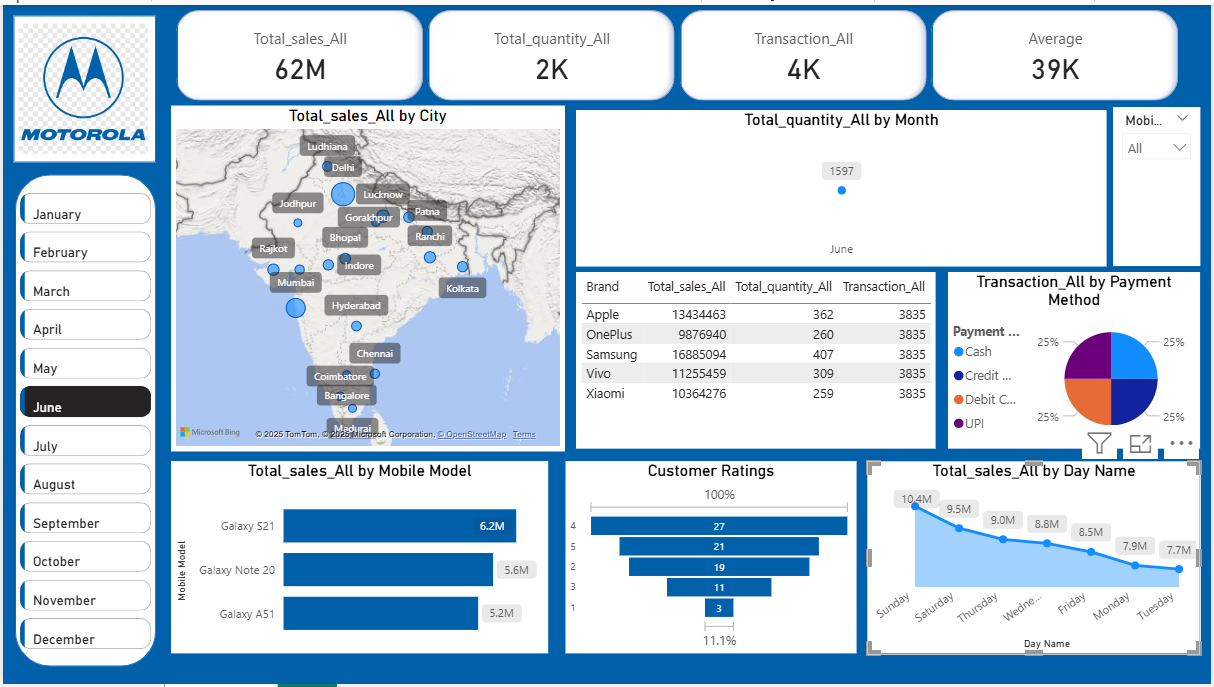

The dashboard page shown, as its layout file describes it:
{"tool":"powerbi","page":{"name":"Page 1","canvas":[1280,720],"ordinal":0},"visuals":[{"type":"shape","box":[11.1,11.1,151.1,155.9],"z":0},{"type":"image","box":[11.1,14.3,151.1,149.5],"z":1000},{"type":"shape","box":[12.7,179.7,149.5,521.7],"z":2000},{"type":"advancedSlicerVisual","fields":{"Values":["Sales_data.Date.Variation.Date Hierarchy.Month"]},"box":[12.7,194.1,149.5,494.7],"z":3000},{"type":"cardVisual","fields":{"Data":["Sales_data.Total_sales","Sales_data.Total_quantity","Sales_data.Transaction","Sales_data.Average"]},"box":[178.1,0,1076.8,106.6],"z":4000},{"type":"map","fields":{"Category":["Sales_data.City"],"Size":["Sales_data.Total_sales_All"]},"box":[178.6,107.1,417.1,365.7],"z":5000},{"type":"lineChart","fields":{"Category":["Sales_data.Date.Variation.Date Hierarchy.Month","Sales_data.Date.Variation.Date Hierarchy.Day"],"Y":["Sales_data.Total_quantity_All"]},"box":[607.1,111.4,562.9,165.7],"z":6000},{"type":"clusteredBarChart","fields":{"Category":["Sales_data.Mobile Model"],"Y":["Sales_data.Total_sales_All"]},"box":[178.6,484.3,400,204.3],"z":7000},{"type":"pieChart","fields":{"Category":["Sales_data.Payment Method"],"Y":["Sales_data.Transaction_All"]},"box":[1002.9,282.9,267.1,187.1],"z":8000},{"type":"funnel","title":" Customer Ratings","fields":{"Category":["Sales_data.Customer Ratings"],"Y":["CountNonNull(Sales_data.Customer Ratings)"]},"box":[595.7,484.3,308.6,204.3],"z":9000},{"type":"areaChart","fields":{"Category":["Sales_data.Day Name"],"Y":["Sales_data.Total_sales_All"]},"box":[915.7,484.3,354.3,204.3],"z":10000},{"type":"tableEx","fields":{"Values":["Sales_data.Brand","Sales_data.Total_sales_All","Sales_data.Total_quantity_All","Sales_data.Transaction_All"]},"box":[607.1,282.9,381.4,187.1],"z":11000},{"type":"slicer","fields":{"Values":["Sales_data.Mobile Model"]},"box":[1177.1,108.6,92.9,168.6],"z":12000}]}

Visuals, with their boxes in screenshot pixels (x1, y1, x2, y2), scaled from the page's 1280x720 canvas onto the 1214x687 screenshot:
shape: (left=11, top=11, right=154, bottom=159)
image: (left=11, top=14, right=154, bottom=156)
shape: (left=12, top=171, right=154, bottom=669)
advancedSlicerVisual - Sales_data.Date.Variation.Date Hierarchy.Month: (left=12, top=185, right=154, bottom=657)
cardVisual - Sales_data.Total_sales x Sales_data.Total_quantity: (left=169, top=0, right=1190, bottom=102)
map - Sales_data.City x Sales_data.Total_sales_All: (left=169, top=102, right=565, bottom=451)
lineChart - Sales_data.Date.Variation.Date Hierarchy.Month x Sales_data.Date.Variation.Date Hierarchy.Day: (left=576, top=106, right=1110, bottom=264)
clusteredBarChart - Sales_data.Mobile Model x Sales_data.Total_sales_All: (left=169, top=462, right=549, bottom=657)
pieChart - Sales_data.Payment Method x Sales_data.Transaction_All: (left=951, top=270, right=1205, bottom=448)
" Customer Ratings" funnel: (left=565, top=462, right=858, bottom=657)
areaChart - Sales_data.Day Name x Sales_data.Total_sales_All: (left=868, top=462, right=1205, bottom=657)
tableEx - Sales_data.Brand x Sales_data.Total_sales_All: (left=576, top=270, right=938, bottom=448)
slicer - Sales_data.Mobile Model: (left=1116, top=104, right=1205, bottom=264)
